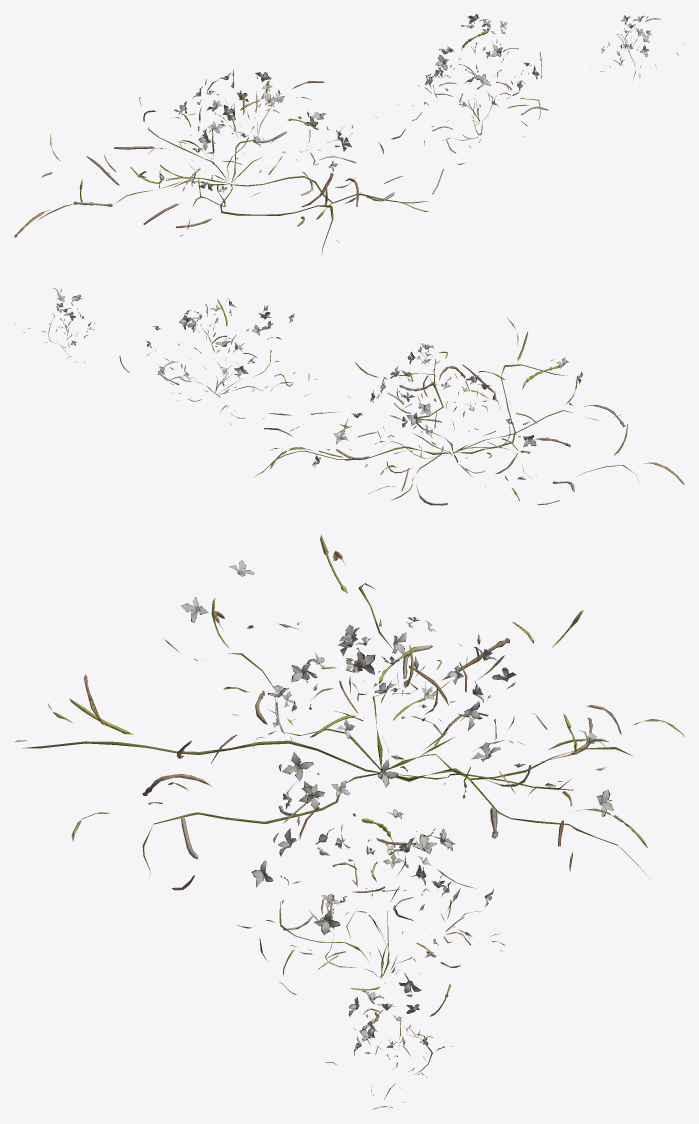
File: flor2.glb
The picture shows the model from 3 angles, top to bottom: view 1: azimuth 30°, elevation 25°; view 2: azimuth 150°, elevation 25°; view 3: azimuth 270°, elevation 25°; orthographic projection. The views are drawn at different scales.
Parts seen in each view (by area): view 1: flower_heliophila_large, flower_heliophila_medium, flower_heliophila_small; view 2: flower_heliophila_large, flower_heliophila_medium, flower_heliophila_small; view 3: flower_heliophila_large, flower_heliophila_medium, flower_heliophila_small.
Part boxes in pixels (bbox=[...]): flower_heliophila_large: bbox=[14, 69, 443, 255]; flower_heliophila_medium: bbox=[396, 14, 548, 164]; flower_heliophila_small: bbox=[600, 15, 684, 78]; flower_heliophila_large: bbox=[254, 317, 684, 505]; flower_heliophila_medium: bbox=[119, 298, 317, 424]; flower_heliophila_small: bbox=[14, 287, 94, 362]; flower_heliophila_large: bbox=[14, 534, 684, 920]; flower_heliophila_medium: bbox=[236, 780, 505, 1029]; flower_heliophila_small: bbox=[325, 991, 453, 1109].
Size of the model in its own units: 2.75 by 0.399 by 1.36.
Materials: 1 (1 with a texture image).
